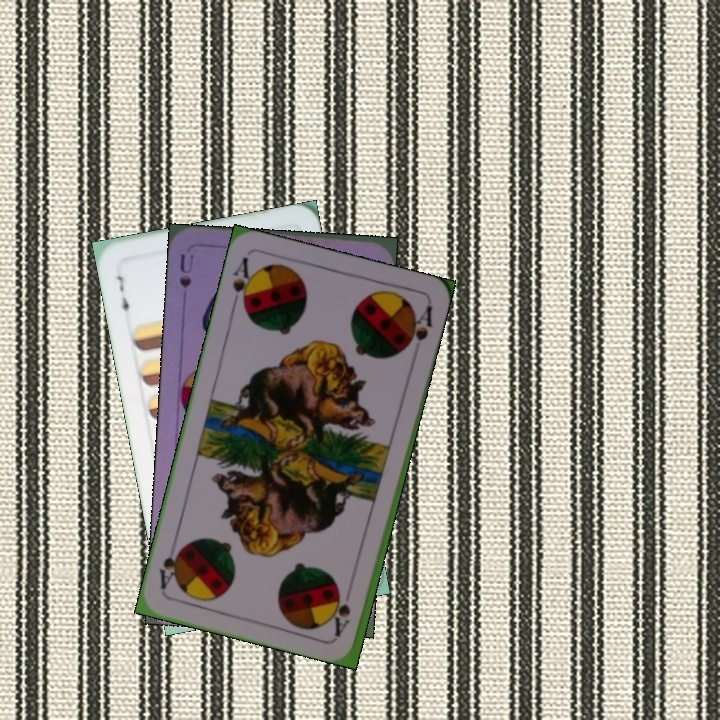E7: (113, 271, 132, 321)
SA: (227, 253, 257, 314), (330, 579, 355, 638)
SU: (176, 249, 197, 291)
